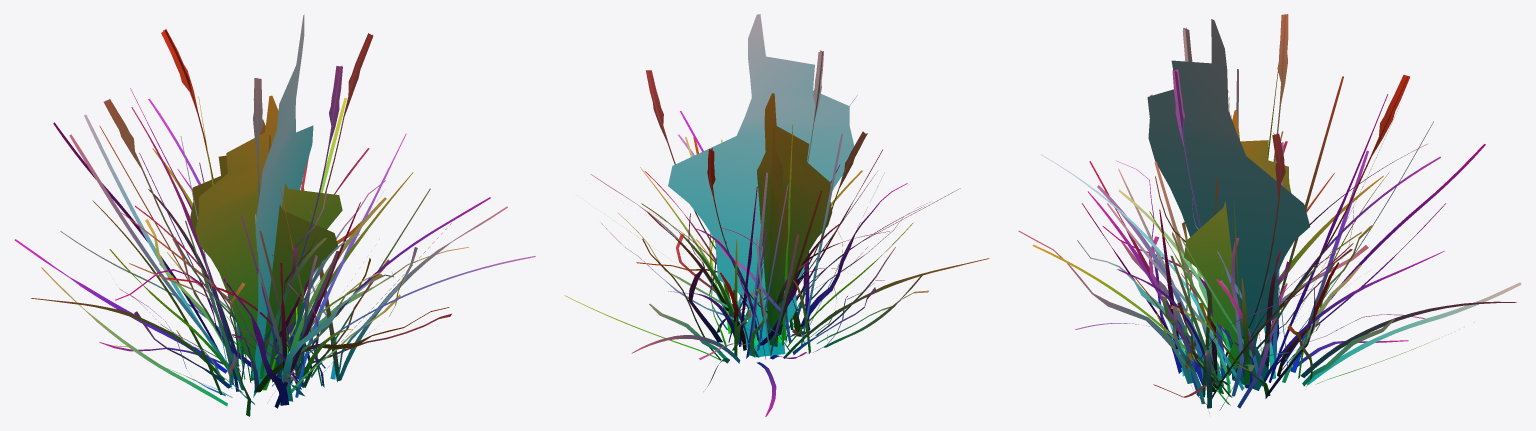
Rendered from Wild_Grass_vlkhcbxia_High_vlkhcbxia_VarA_LOD0.fbx.
3 renders of one model, left to right at view 1: azimuth 30°, elevation 25°; view 2: azimuth 150°, elevation 25°; view 3: azimuth 270°, elevation 25°, orthographic. The views are drawn at different scales.
Visible parts, largest first — view 1: _0ygx_VarA_LOD0; view 2: _0ygx_VarA_LOD0; view 3: _0ygx_VarA_LOD0.
Part boxes in pixels (x1,y1,x2,y2): _0ygx_VarA_LOD0: (14,14,535,416); _0ygx_VarA_LOD0: (564,14,989,416); _0ygx_VarA_LOD0: (1018,14,1521,413).
Bounding box in the file's own units: 53.05 × 40.87 × 49.01.
